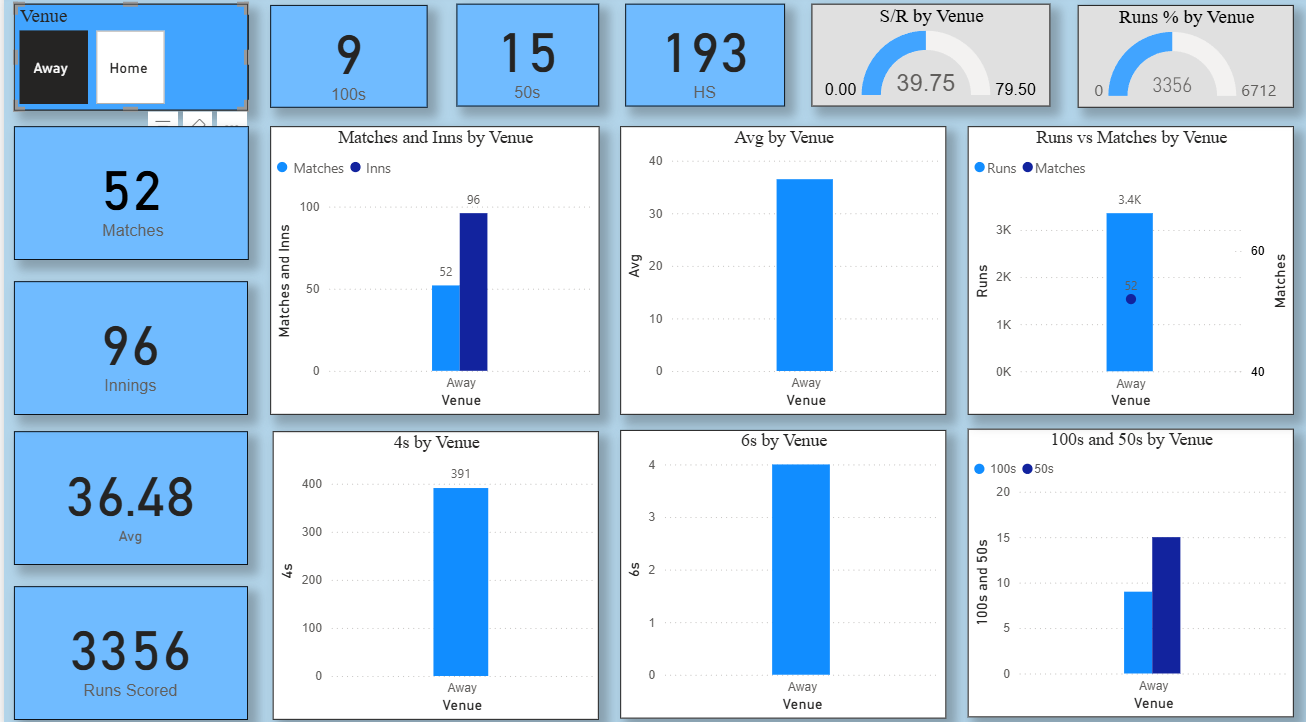

This screenshot's page, from the dashboard's own definition file:
{"tool":"powerbi","page":{"name":"Page 1","canvas":[1280,720],"ordinal":0},"visuals":[{"type":"columnChart","title":"4s by Venue","fields":{"Category":["By Home or Away.Venue"],"Y":["Sum(By Home or Away.4s)"]},"box":[263.8,428.2,320.2,283.4],"z":0},{"type":"advancedSlicerVisual","fields":{"Values":["By Home or Away.Venue"]},"box":[9.8,8.6,230,105],"z":1000},{"type":"card","fields":{"Values":["Sum(By Home or Away.Mat)"]},"box":[9.8,128.8,230,131],"z":2000},{"type":"columnChart","fields":{"Category":["By Home or Away.Venue"],"Y":["Sum(By Home or Away.Avg)"]},"box":[604.9,128.8,320.2,283.4],"z":3000},{"type":"card","fields":{"Values":["Sum(By Home or Away.100s)"]},"box":[261.4,9.8,154.6,101],"z":4000},{"type":"card","fields":{"Values":["Avg(By Home or Away.Avg)"]},"box":[9.8,428.2,229.4,131.3],"z":5000},{"type":"clusteredColumnChart","fields":{"Category":["By Home or Away.Venue"],"Y":["Sum(By Home or Away.Mat)","Sum(By Home or Away.Inns)"]},"box":[261.4,128.8,323,283],"z":6000},{"type":"columnChart","fields":{"Category":["By Home or Away.Venue"],"Y":["Sum(By Home or Away.6s)"]},"box":[604.9,427,320,283.4],"z":7000},{"type":"card","fields":{"Values":["Sum(By Home or Away.Inns)"]},"box":[9.8,281,229.4,131.3],"z":8000},{"type":"clusteredColumnChart","title":" 100s and 50s by Venue","fields":{"Y":["Sum(By Home or Away.100s)","Sum(By Home or Away.50s)"],"Category":["By Home or Away.Venue"]},"box":[946,425.8,320.2,283.4],"z":9000},{"type":"card","fields":{"Values":["Sum(By Home or Away.50s)"]},"box":[444.2,8.6,139.9,101],"z":10000},{"type":"card","fields":{"Values":["Sum(By Home or Away.Runs)"]},"box":[9.8,580.4,229.4,131.3],"z":11000},{"type":"card","fields":{"Values":["Max(By Home or Away.HS  )"]},"box":[609.8,8.6,157.1,101],"z":12000},{"type":"lineClusteredColumnComboChart","title":"Runs vs Matches by Venue","fields":{"Category":["By Home or Away.Venue"],"Y":["Sum(By Home or Away.Runs)"],"Y2":["Sum(By Home or Away.Mat)"]},"box":[946,128.8,320.2,283.4],"z":13000},{"type":"gauge","title":"Runs % by Venue","fields":{"Y":["Sum(By Home or Away.Runs)"]},"box":[1054,9.8,212.3,100.6],"z":14000},{"type":"gauge","title":"S/R by Venue","fields":{"Y":["Avg(By Home or Away.S/R)"]},"box":[792.6,8.6,234.4,101],"z":15000}]}

Visuals, with their boxes in screenshot pixels (x1, y1, x2, y2), scaled from the page's 1280x720 canvas onto the 1306x722 screenshot:
"4s by Venue" columnChart: {"left": 269, "top": 429, "right": 596, "bottom": 714}
advancedSlicerVisual - By Home or Away.Venue: {"left": 10, "top": 9, "right": 245, "bottom": 114}
card - Sum(By Home or Away.Mat): {"left": 10, "top": 129, "right": 245, "bottom": 261}
columnChart - By Home or Away.Venue x Sum(By Home or Away.Avg): {"left": 617, "top": 129, "right": 944, "bottom": 413}
card - Sum(By Home or Away.100s): {"left": 267, "top": 10, "right": 424, "bottom": 111}
card - Avg(By Home or Away.Avg): {"left": 10, "top": 429, "right": 244, "bottom": 561}
clusteredColumnChart - By Home or Away.Venue x Sum(By Home or Away.Mat): {"left": 267, "top": 129, "right": 596, "bottom": 413}
columnChart - By Home or Away.Venue x Sum(By Home or Away.6s): {"left": 617, "top": 428, "right": 944, "bottom": 712}
card - Sum(By Home or Away.Inns): {"left": 10, "top": 282, "right": 244, "bottom": 413}
" 100s and 50s by Venue" clusteredColumnChart: {"left": 965, "top": 427, "right": 1292, "bottom": 711}
card - Sum(By Home or Away.50s): {"left": 453, "top": 9, "right": 596, "bottom": 110}
card - Sum(By Home or Away.Runs): {"left": 10, "top": 582, "right": 244, "bottom": 714}
card - Max(By Home or Away.HS  ): {"left": 622, "top": 9, "right": 782, "bottom": 110}
"Runs vs Matches by Venue" lineClusteredColumnComboChart: {"left": 965, "top": 129, "right": 1292, "bottom": 413}
"Runs % by Venue" gauge: {"left": 1075, "top": 10, "right": 1292, "bottom": 111}
"S/R by Venue" gauge: {"left": 809, "top": 9, "right": 1048, "bottom": 110}
